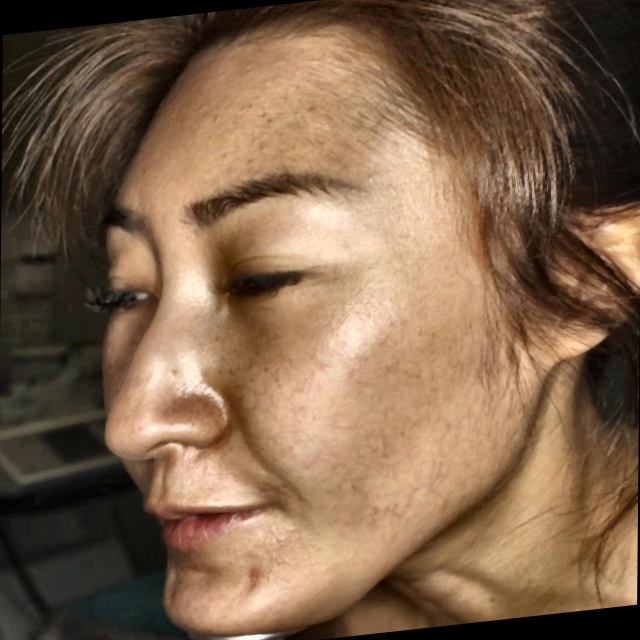comedone: (232, 560, 272, 591)
